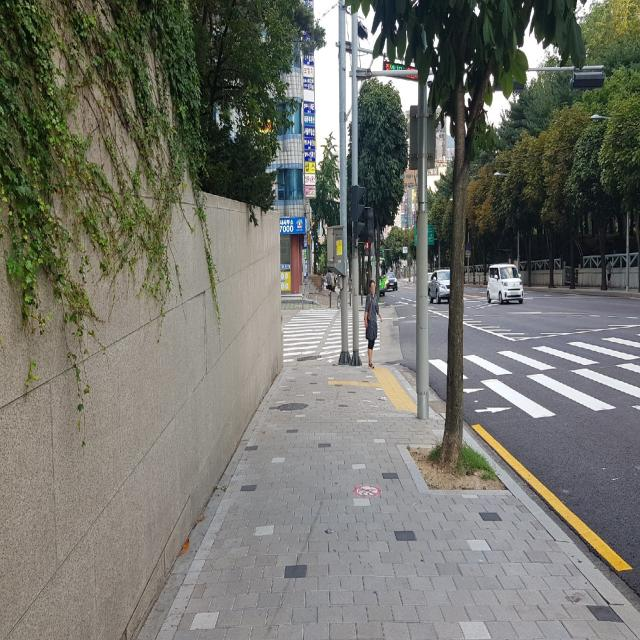횡단보도: (468, 346, 640, 406), (283, 309, 381, 363)
